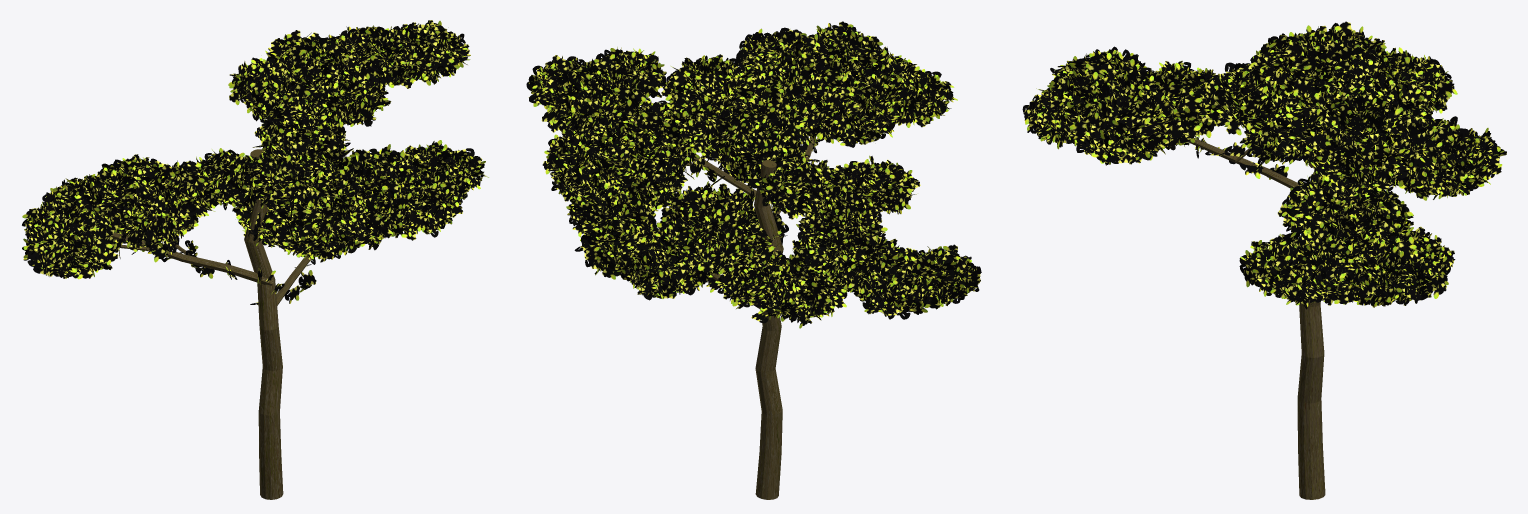
The model's file is acacia_flat_v03.fbx.
3 views of the same model, side by side, from view 1: azimuth 30°, elevation 25°; view 2: azimuth 150°, elevation 25°; view 3: azimuth 270°, elevation 25° (orthographic). The views are drawn at different scales.
Visible parts, largest first — view 1: acacia_flat_v03; view 2: acacia_flat_v03; view 3: acacia_flat_v03.
Boxes of the visible parts, bbox=[...] form: acacia_flat_v03: bbox=[22, 20, 488, 499]; acacia_flat_v03: bbox=[526, 21, 981, 499]; acacia_flat_v03: bbox=[1022, 21, 1506, 499].
Size of the model in its own units: 1272 by 1063 by 1168.
2 materials, 2 textured.
